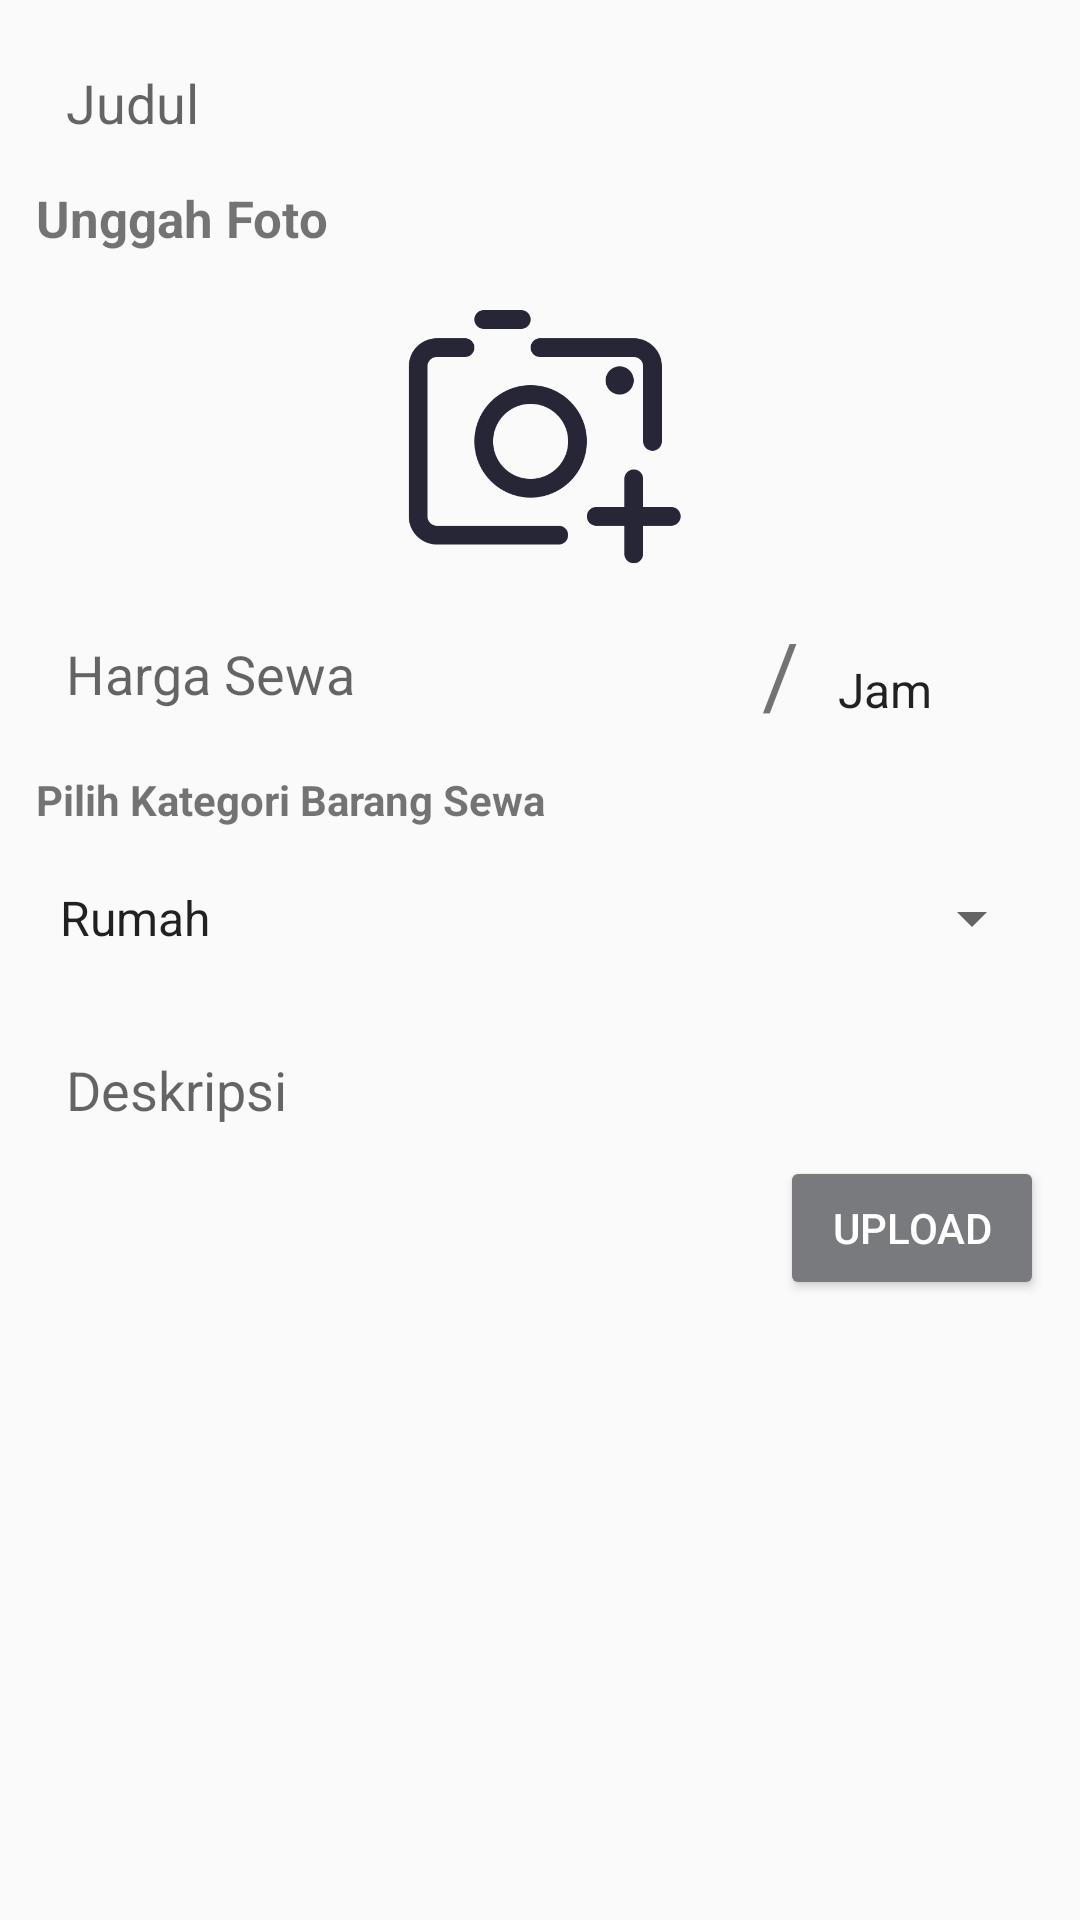

Where icons sit on this 1080*1920 app screen, as [x1=x1, y1=y1, x2=x2, y2=y2]:
camera: [x1=409, y1=310, x2=681, y2=563]
